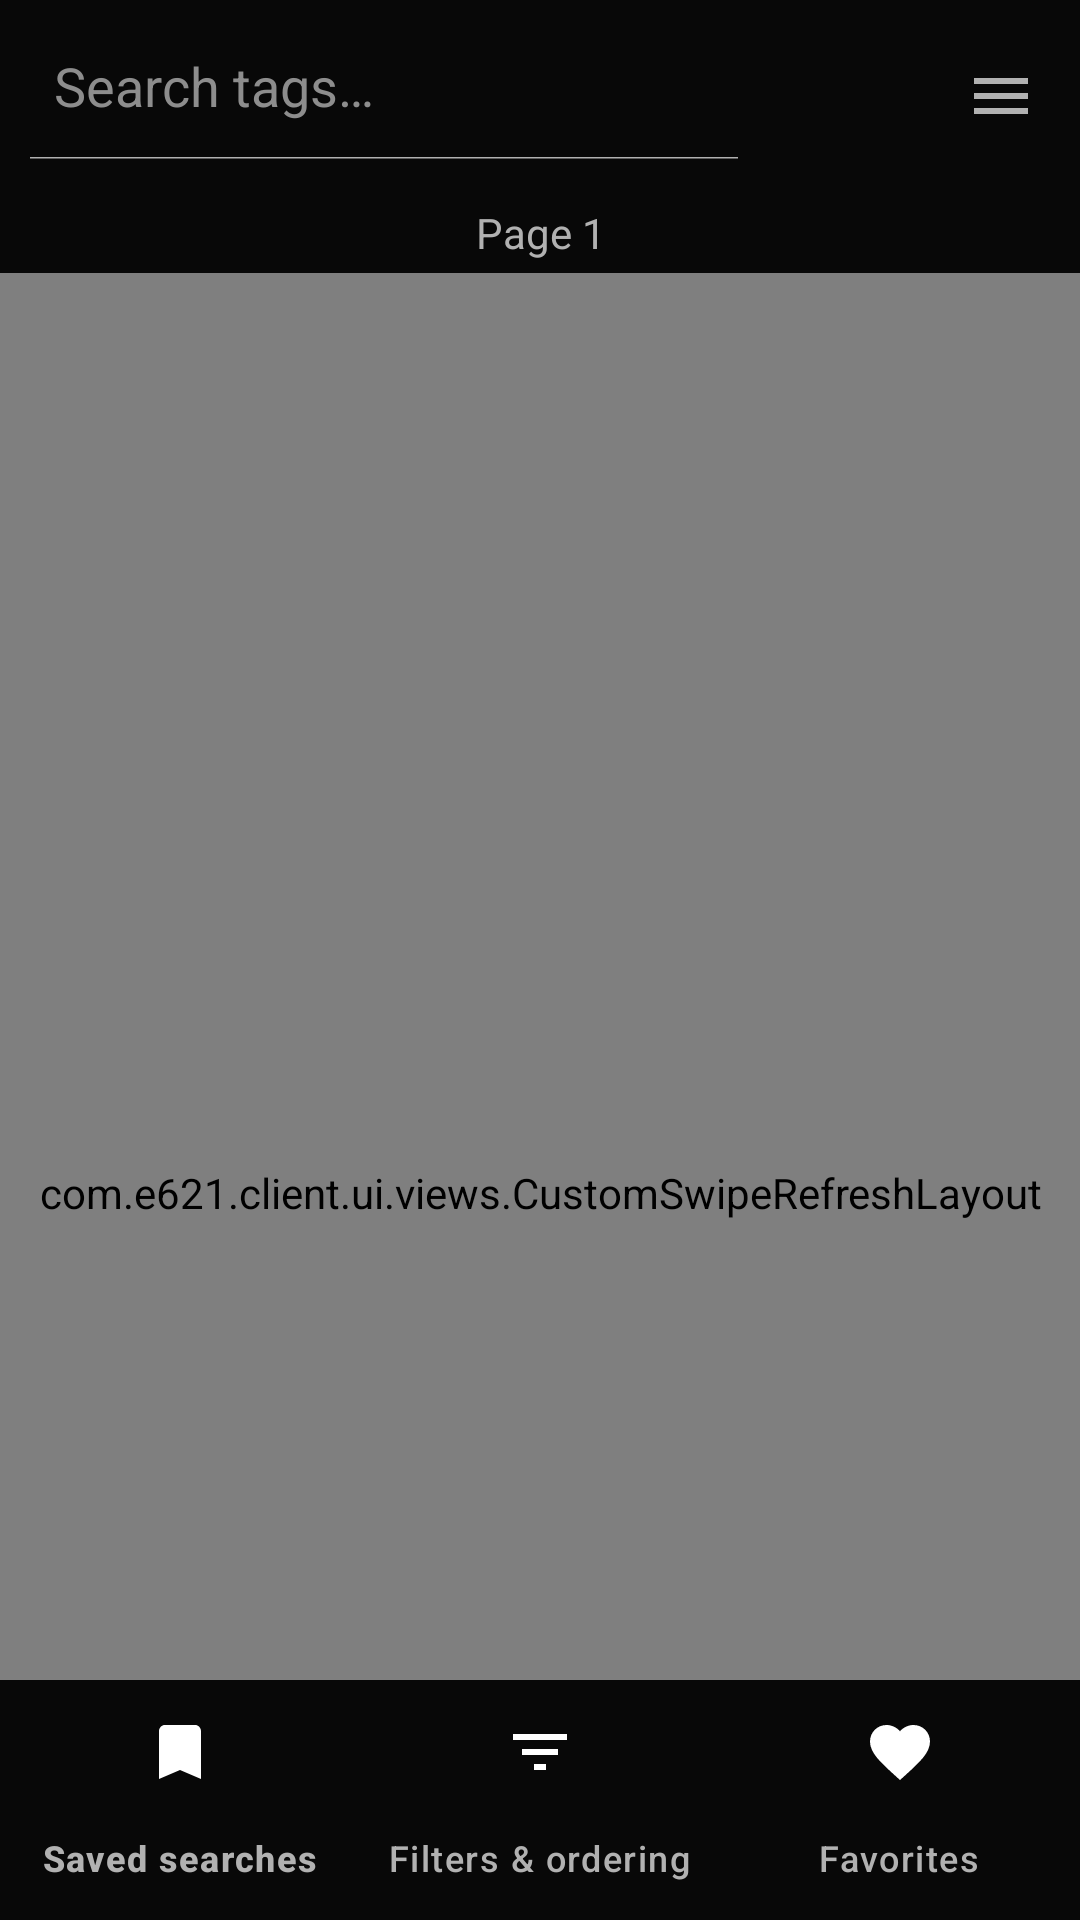

Point at icon controls on the screen. Image size 1080x1920, points as [x,y].
Menu: [1001,96]
